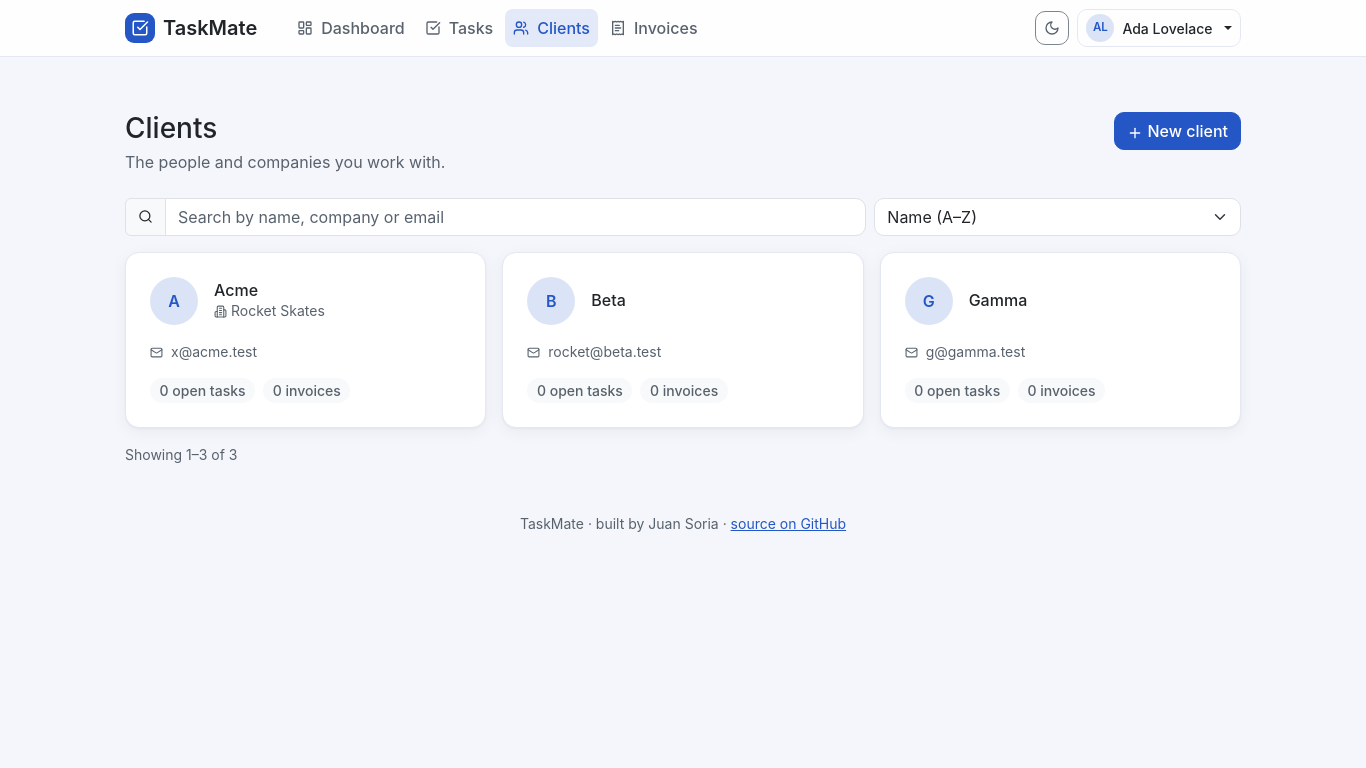
Test: Clients page › searches by name, email and company, and keeps the query in the URL
Type "rocket" into the search field named "Search clients" at (516, 217), box [165,198,866,236]
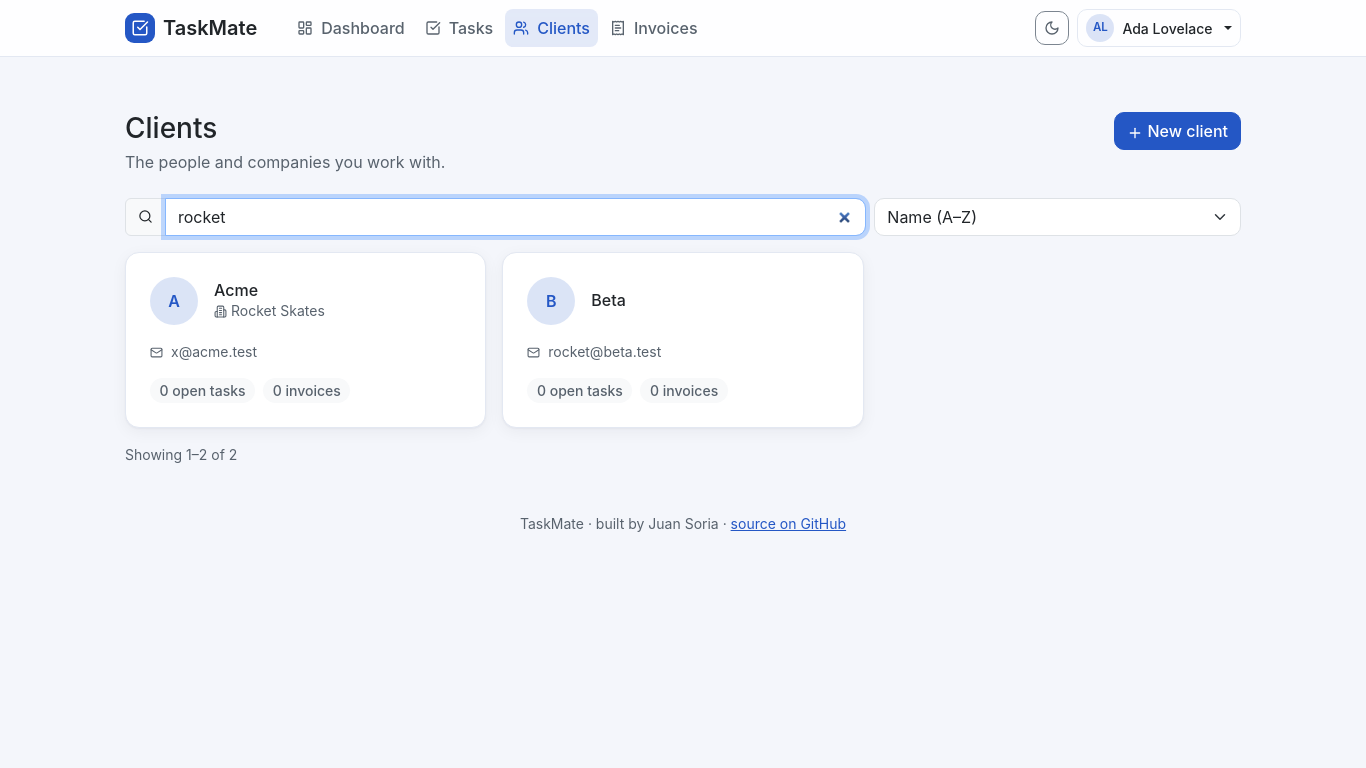
Now the text "Showing 1–2 of 2" is shown, box [125,444,237,465]
